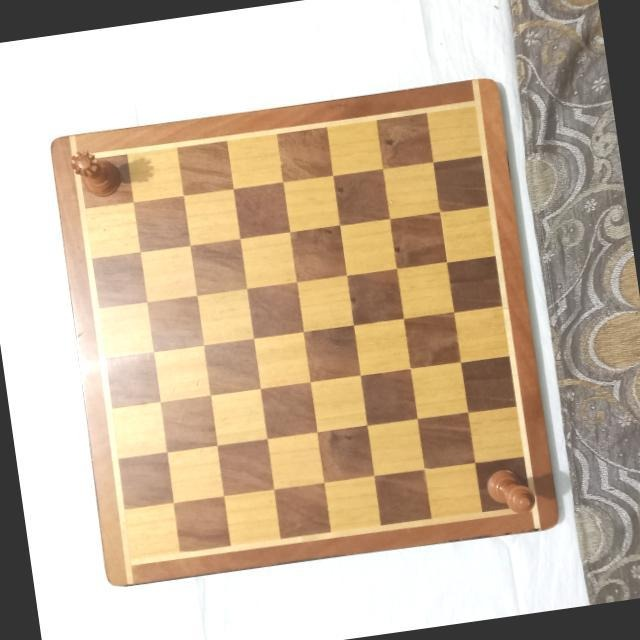white-king: (484, 462, 540, 516)
white-queen: (66, 141, 125, 199)
